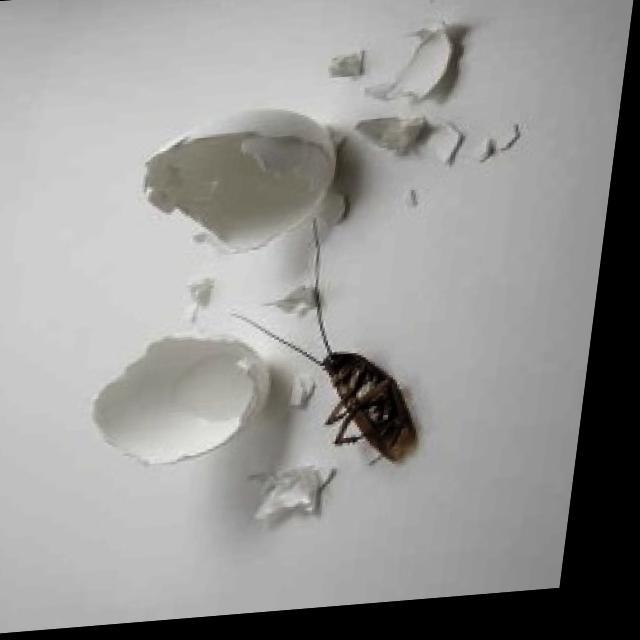cockroach: (286, 317, 448, 485)
